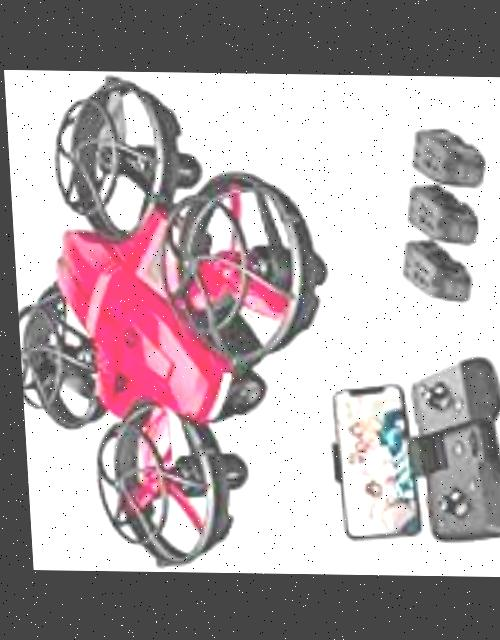drone: (3, 70, 337, 574)
